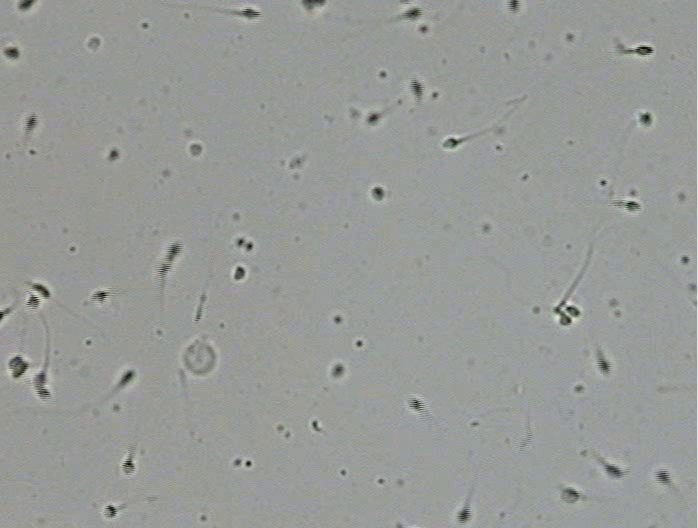Impurity: (183, 343, 217, 374), (88, 37, 100, 50)
S: (8, 355, 28, 378), (166, 241, 182, 261), (603, 463, 623, 479), (23, 113, 39, 132), (30, 283, 50, 298), (653, 469, 671, 485), (561, 487, 579, 503), (409, 78, 424, 97), (157, 262, 172, 279), (34, 386, 51, 401), (407, 397, 424, 412), (596, 357, 611, 374), (403, 7, 422, 20), (120, 370, 135, 386), (457, 507, 472, 523), (301, 1, 326, 10), (32, 371, 46, 387), (122, 459, 136, 475), (241, 8, 261, 19), (635, 45, 655, 56), (26, 295, 41, 309), (4, 47, 20, 60), (91, 291, 109, 302), (233, 265, 246, 280), (442, 138, 459, 149), (331, 364, 344, 378), (639, 112, 652, 126), (16, 1, 36, 10), (625, 201, 641, 212), (190, 143, 203, 156), (371, 187, 384, 200), (103, 505, 117, 517), (508, 1, 521, 13), (566, 305, 580, 316), (559, 314, 572, 325), (1, 307, 10, 322), (366, 113, 379, 123), (108, 150, 119, 160)
